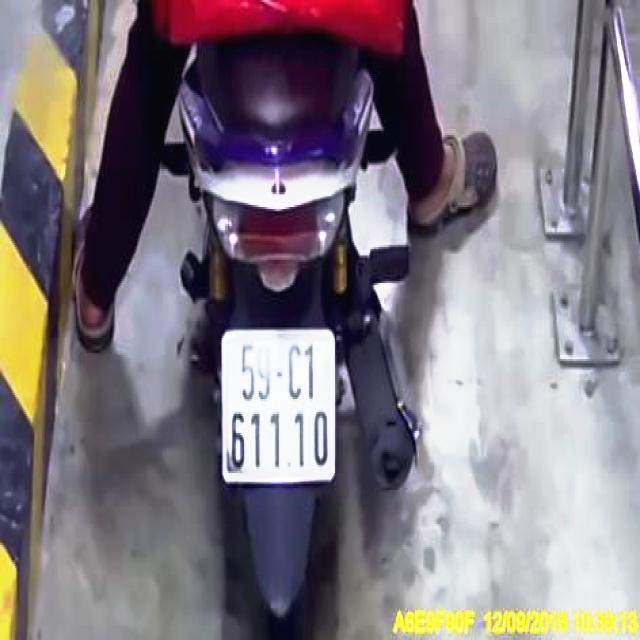license_plate: (224, 334, 334, 485)
